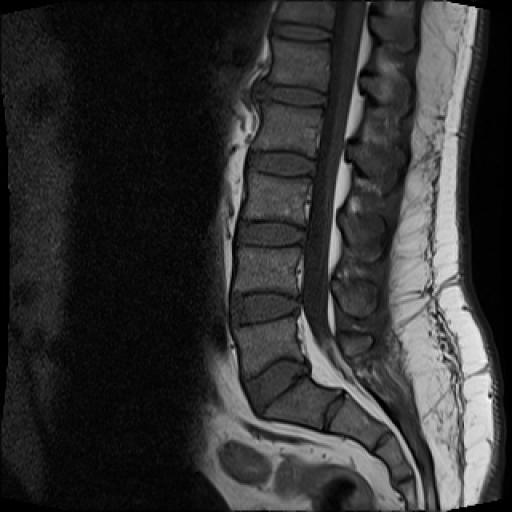L1: (267, 36, 330, 94)
L2: (253, 104, 322, 157)
L3: (242, 168, 313, 228)
L4: (234, 246, 302, 296)
L5: (233, 318, 304, 378)
S1: (264, 377, 344, 432)
